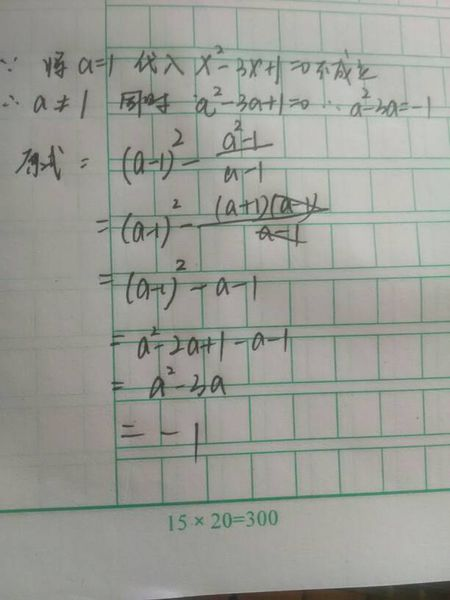division: (194, 210, 329, 223), (212, 144, 281, 158)
square: (171, 122, 184, 150), (211, 40, 225, 60), (164, 362, 177, 382), (167, 194, 181, 212), (361, 83, 374, 102), (231, 115, 245, 132), (146, 322, 161, 337), (173, 258, 187, 273), (214, 82, 227, 96)
